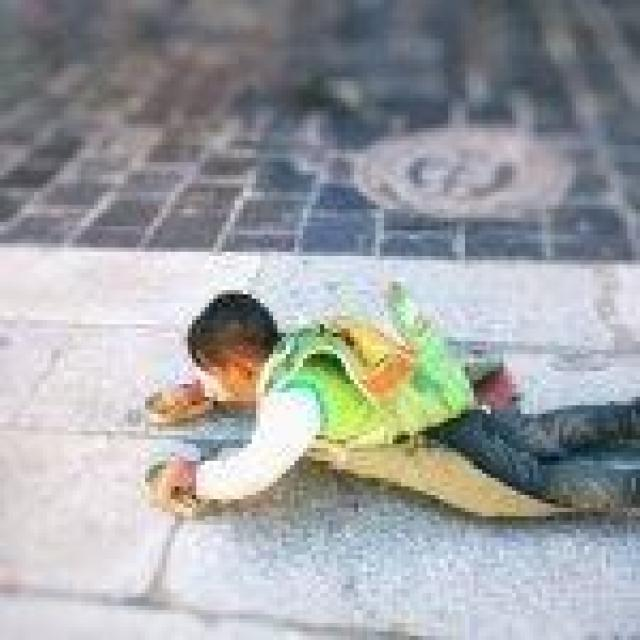fall: (120, 269, 636, 546)
